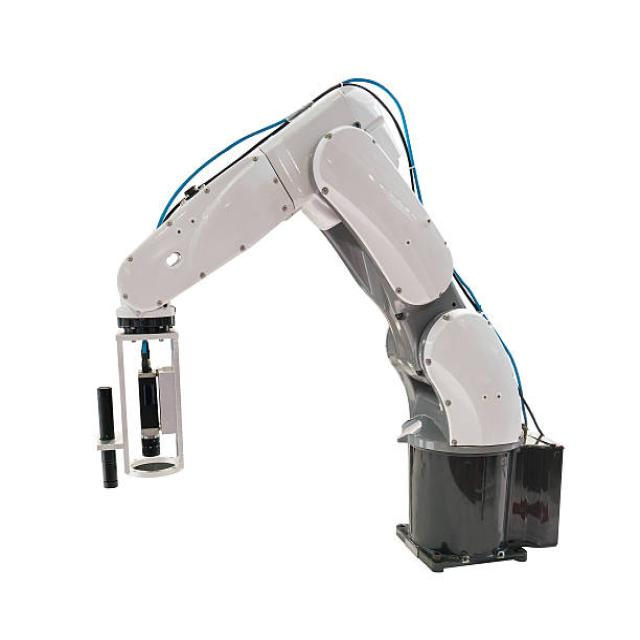Robotic-arm: (88, 70, 566, 576)
